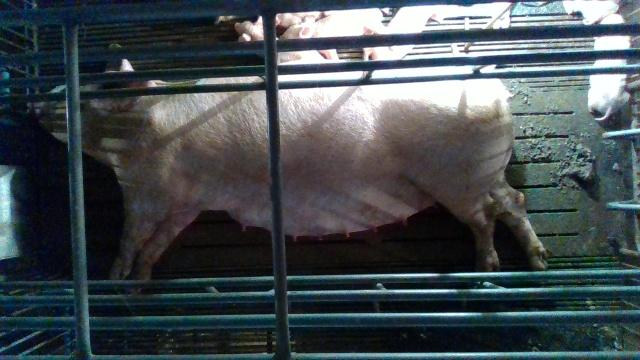piglet: (280, 10, 385, 61), (585, 13, 630, 122), (236, 15, 327, 61), (362, 5, 436, 58), (429, 3, 512, 32)
sow-sleep-lactate: (34, 42, 548, 295)
